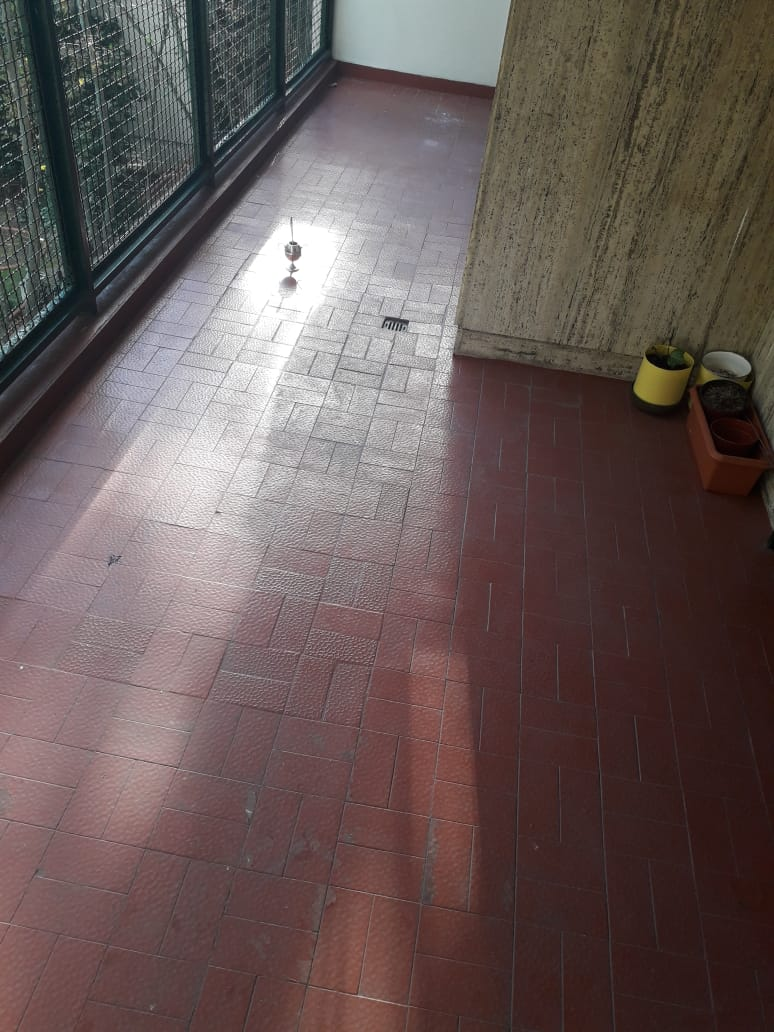mate: (282, 213, 302, 275)
metal: (280, 211, 300, 273)
